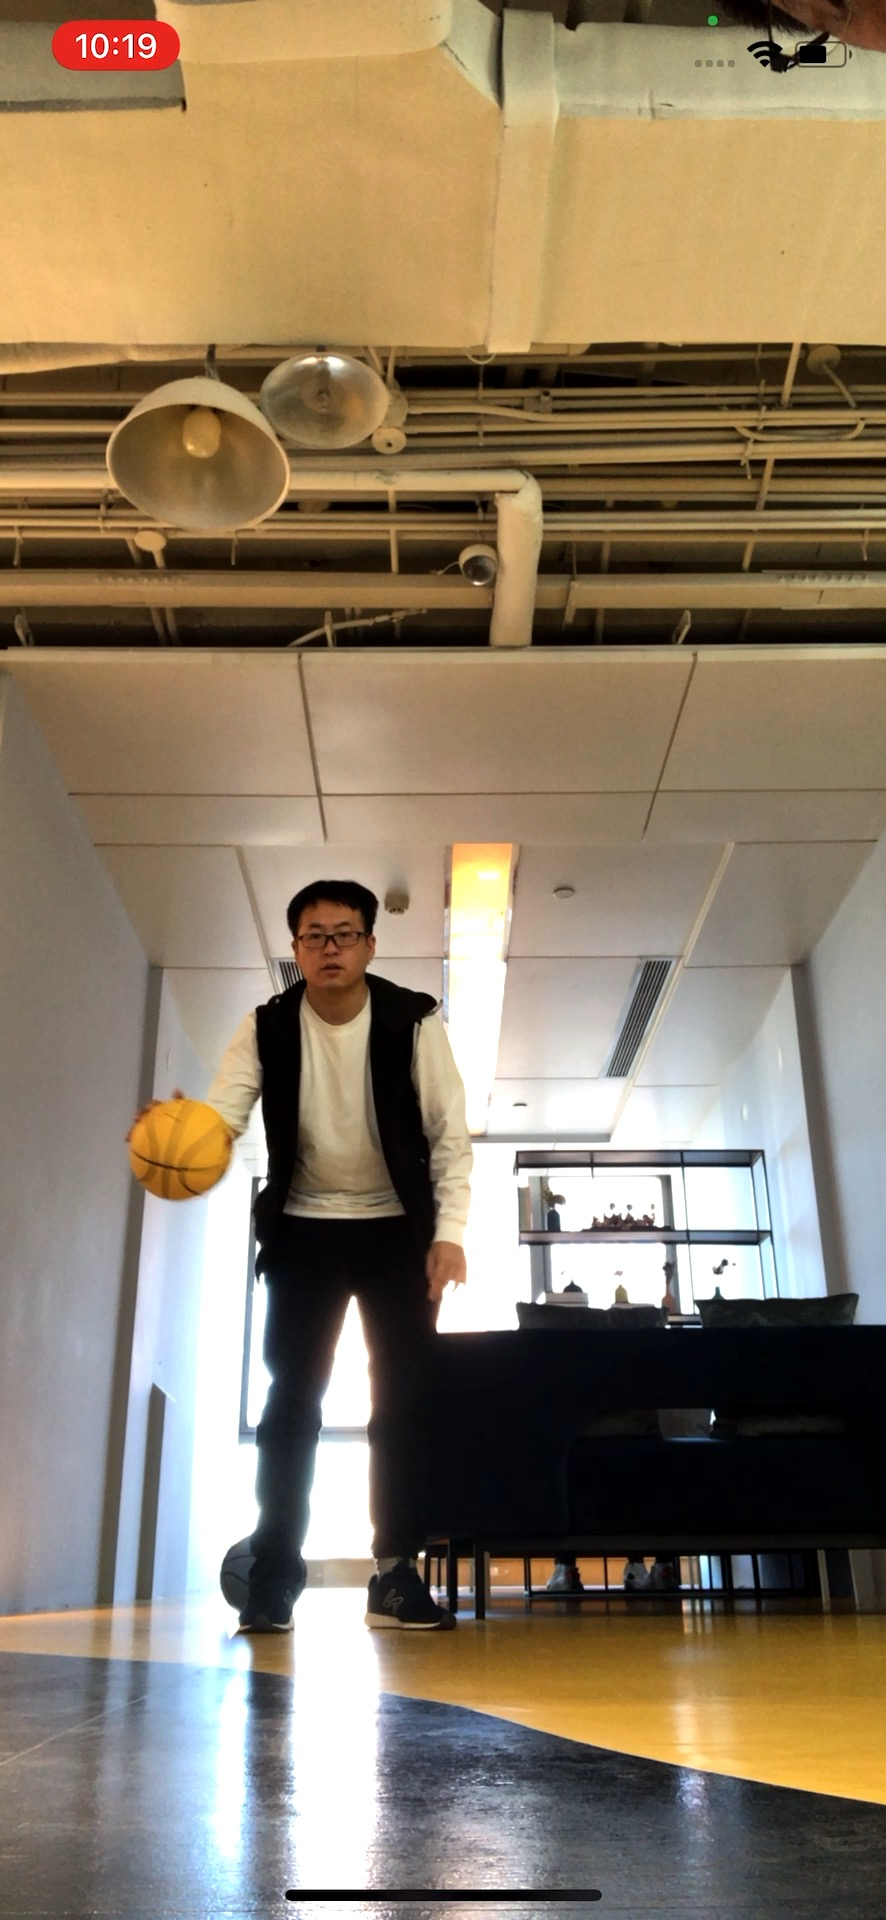ball: (125, 1098, 231, 1204)
